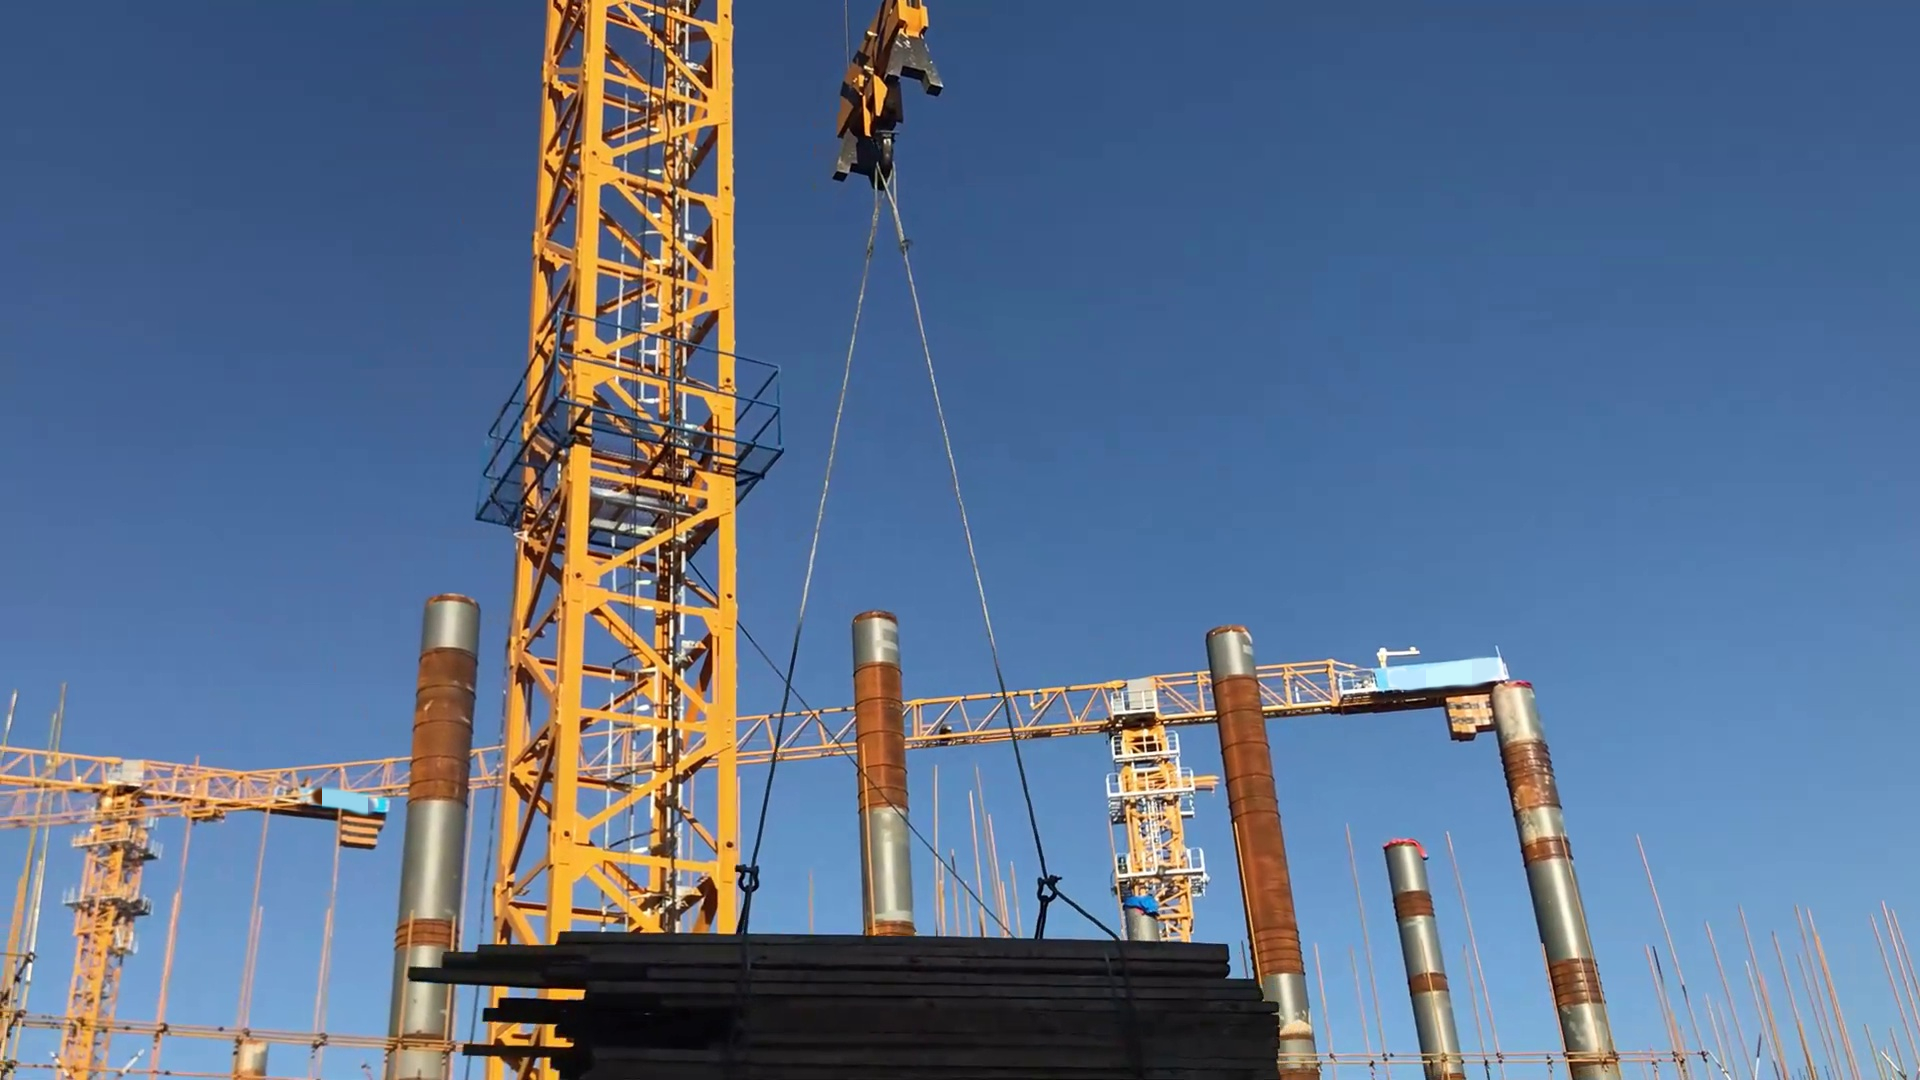hook: (829, 4, 938, 186)
wood: (404, 902, 1284, 1080)
